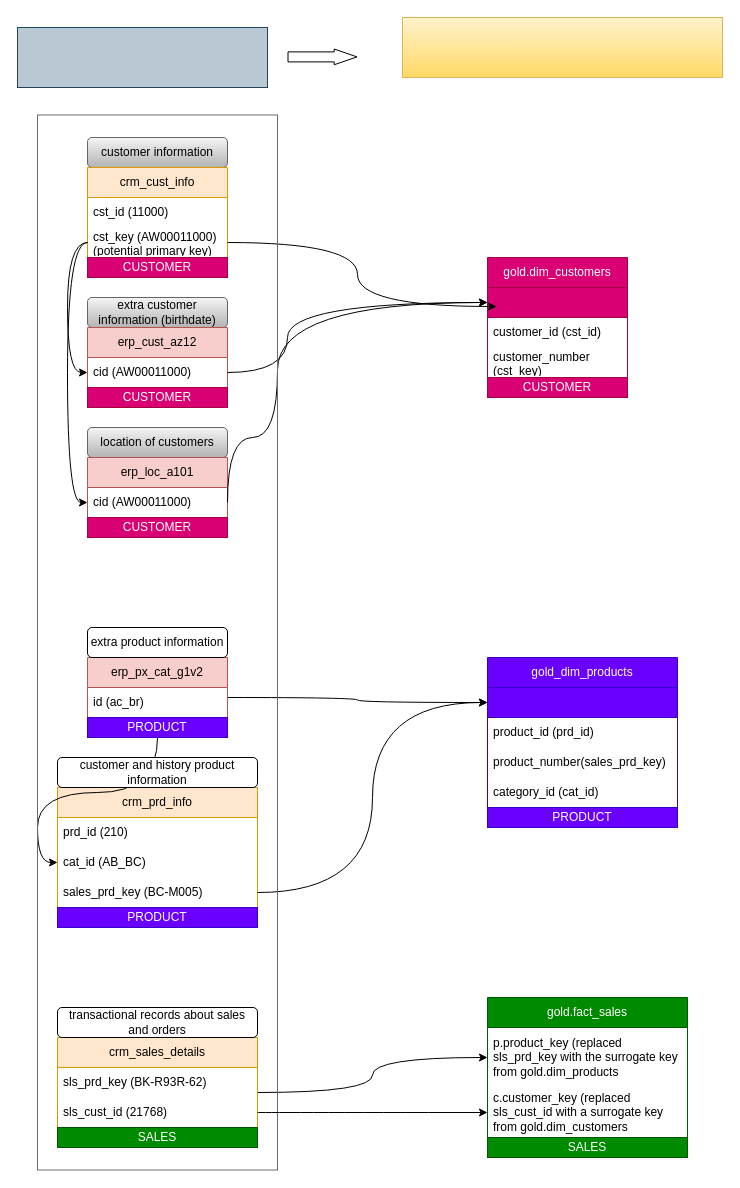
Some shapes in this 740 by 1188 pixel diagram are drawn without their labels. The centre of each missing label's shape, as x and y in pixels:
"customer_key (surrogate key)" goes at point (557, 302).
"GOLD LAYER" goes at point (562, 47).
"product_key (surrogate key)" goes at point (582, 702).
"SILVER LAYER" goes at point (142, 57).
